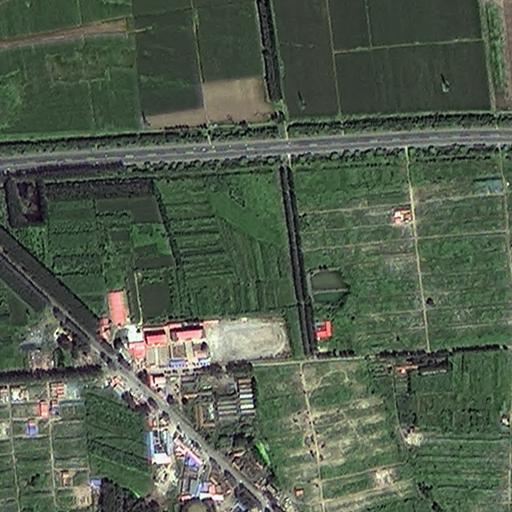school: (142, 317, 289, 373)
